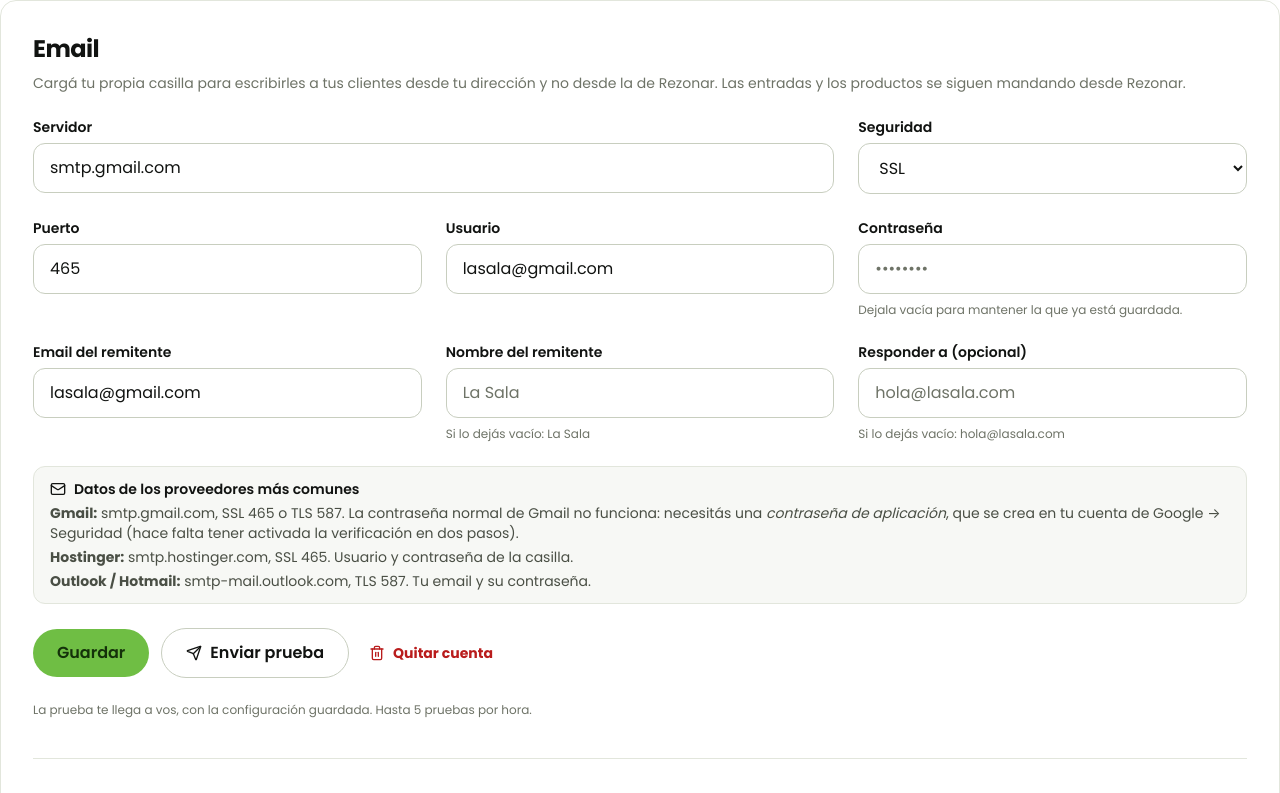
Scenario: SeccionEmail › la prueba fallida muestra el error del servidor en castellano
Click the button "Enviar prueba" at (255,653), box [161, 628, 349, 678]
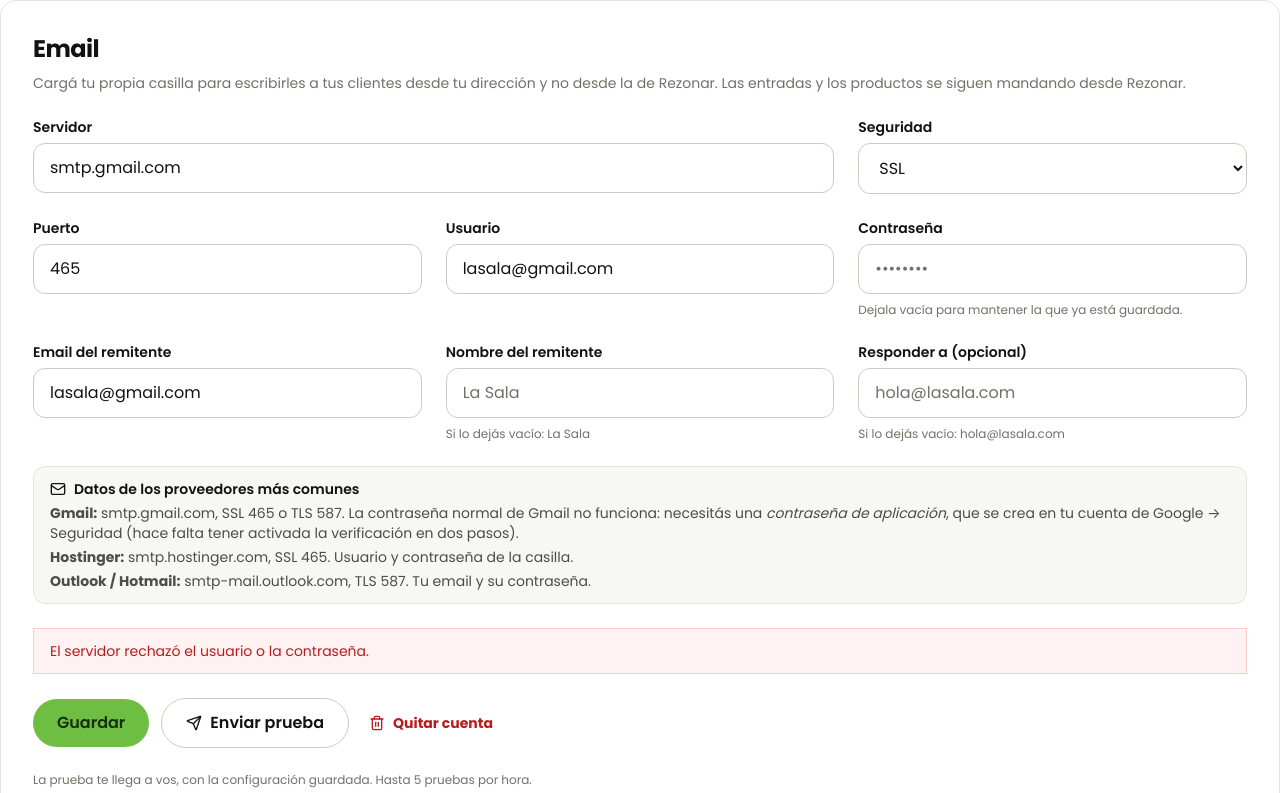
Expected: the message reads "El servidor rechazó el usuario o la contraseña.", [50, 641, 369, 661]
